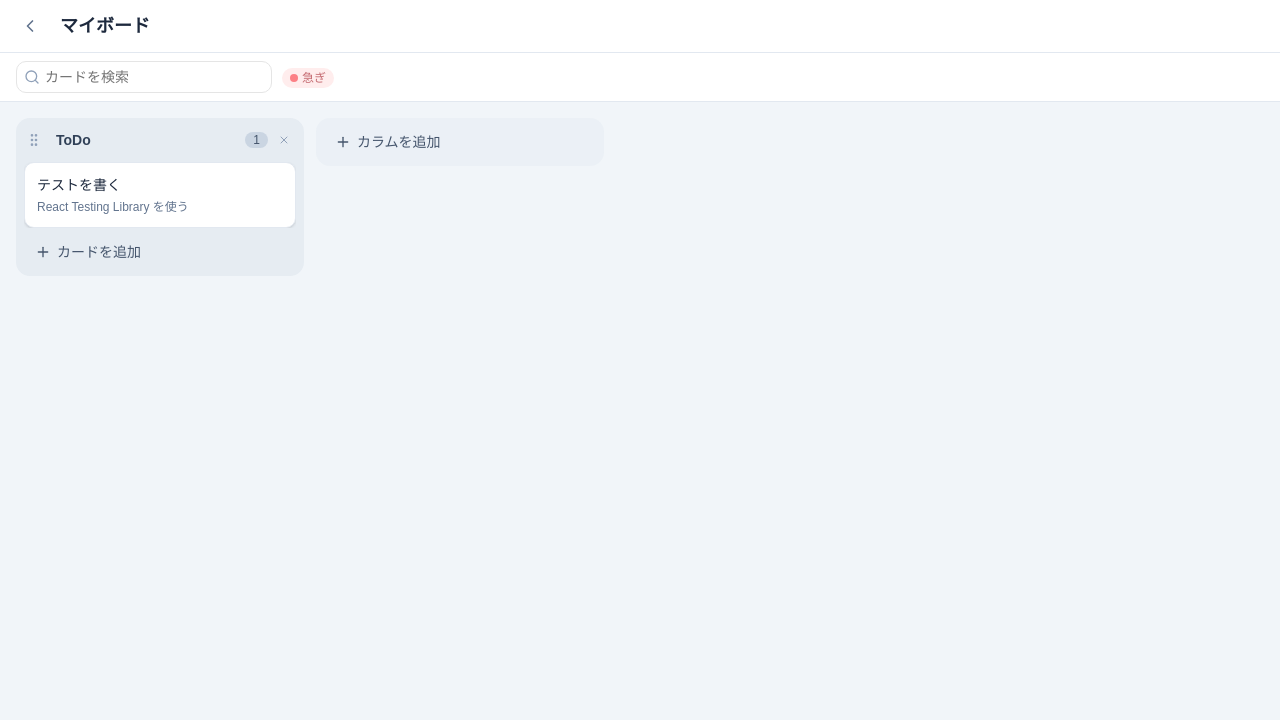
Scenario: ボード › ボード名の保存に失敗したら、元の名前に戻してエラーを知らせる
Click the button "マイボード": (105,26) [52, 8, 1264, 44]
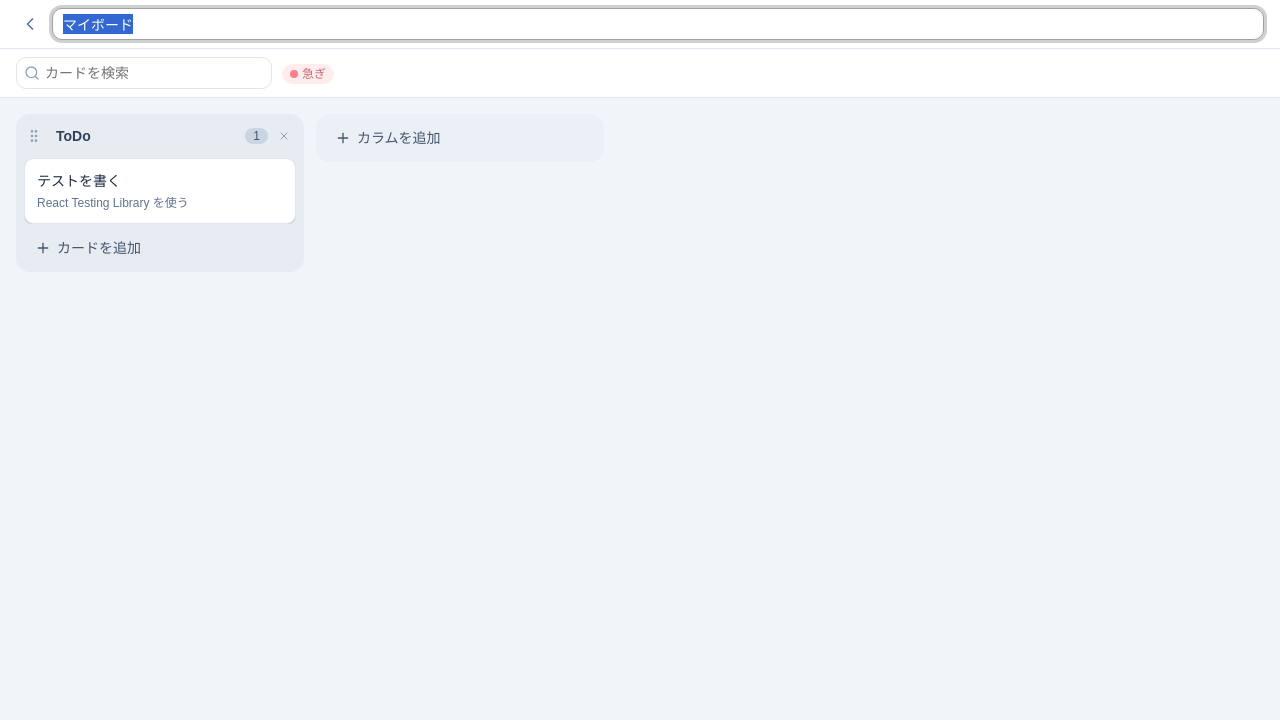
Replace the text in the field named "ボード名" with "新しい名前": (658,24) [52, 8, 1264, 40]
Then press Enter
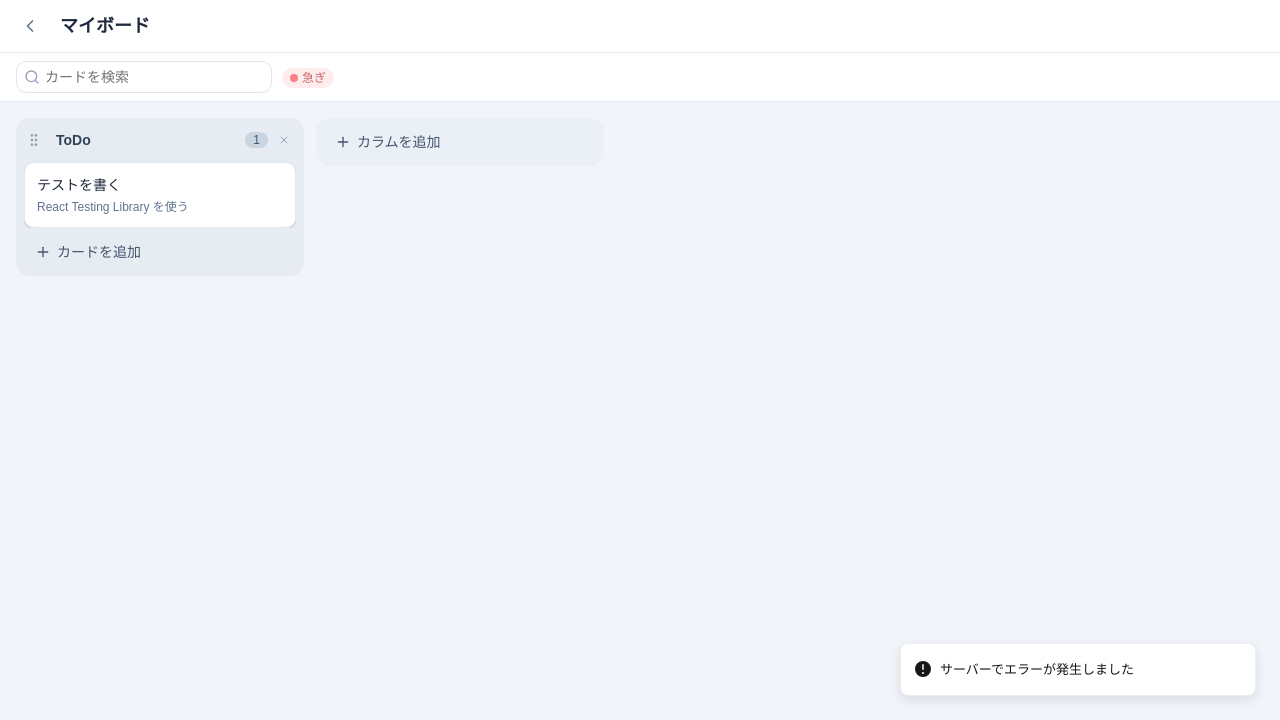
expect the text "サーバーでエラーが発生しました" is shown: met, box [940, 660, 1134, 679]
expect the button "マイボード" is shown: met, box [52, 8, 1264, 44]
